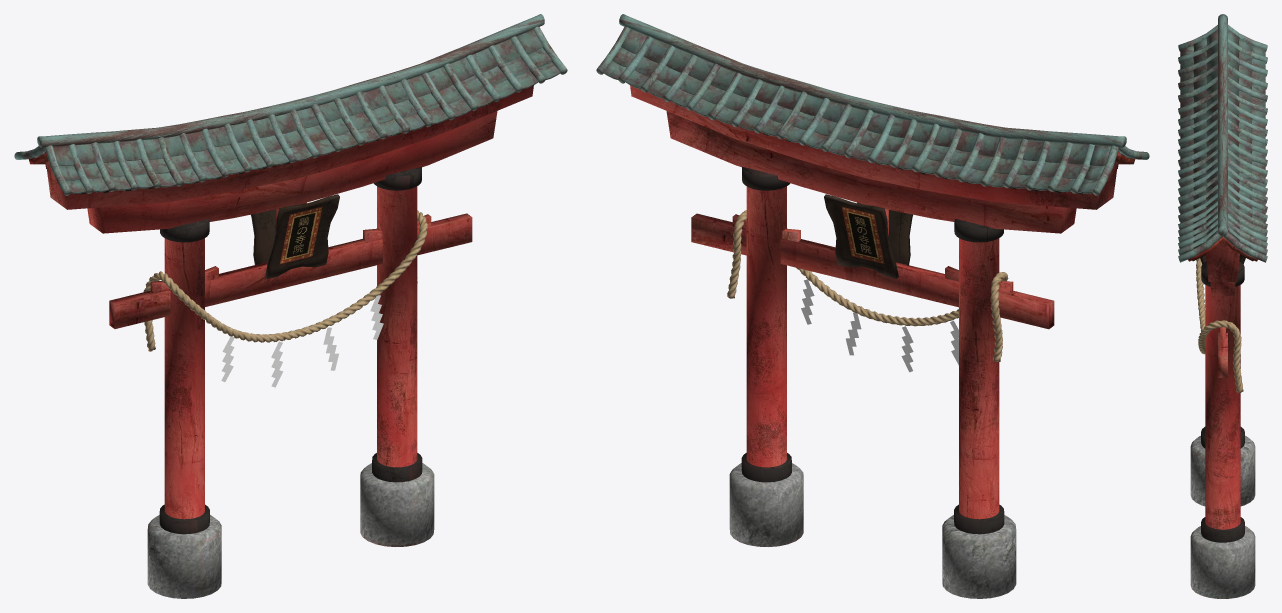
File: MainGate.glb
The picture shows the model from 3 angles, left to right: view 1: azimuth 30°, elevation 25°; view 2: azimuth 150°, elevation 25°; view 3: azimuth 270°, elevation 25°; orthographic projection. The views are drawn at different scales.
Visible parts, largest first — view 1: Cube.014__0; view 2: Cube.014__0; view 3: Cube.014__0.
Part boxes in pixels (x1,y1,x2,y2): Cube.014__0: [14, 14, 567, 598]; Cube.014__0: [596, 14, 1149, 598]; Cube.014__0: [1178, 14, 1267, 598].
Bounding box in the file's own units: 8.84 × 8.09 × 1.57.
1 material, 1 textured.
